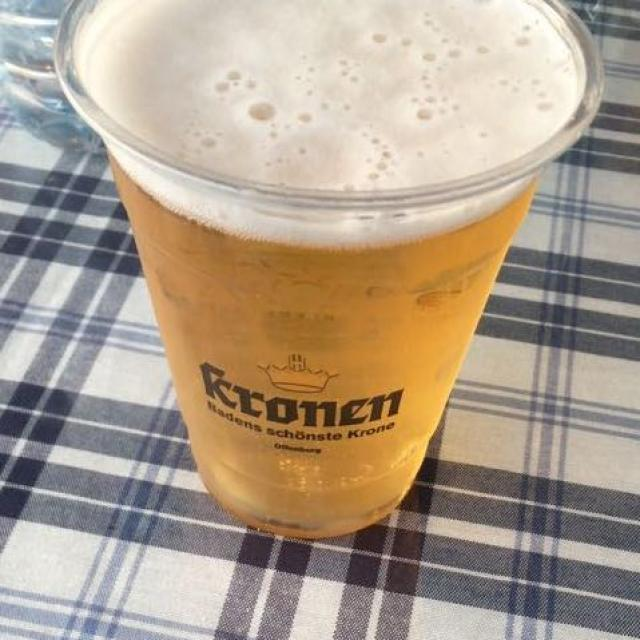beer: (77, 2, 579, 193)
